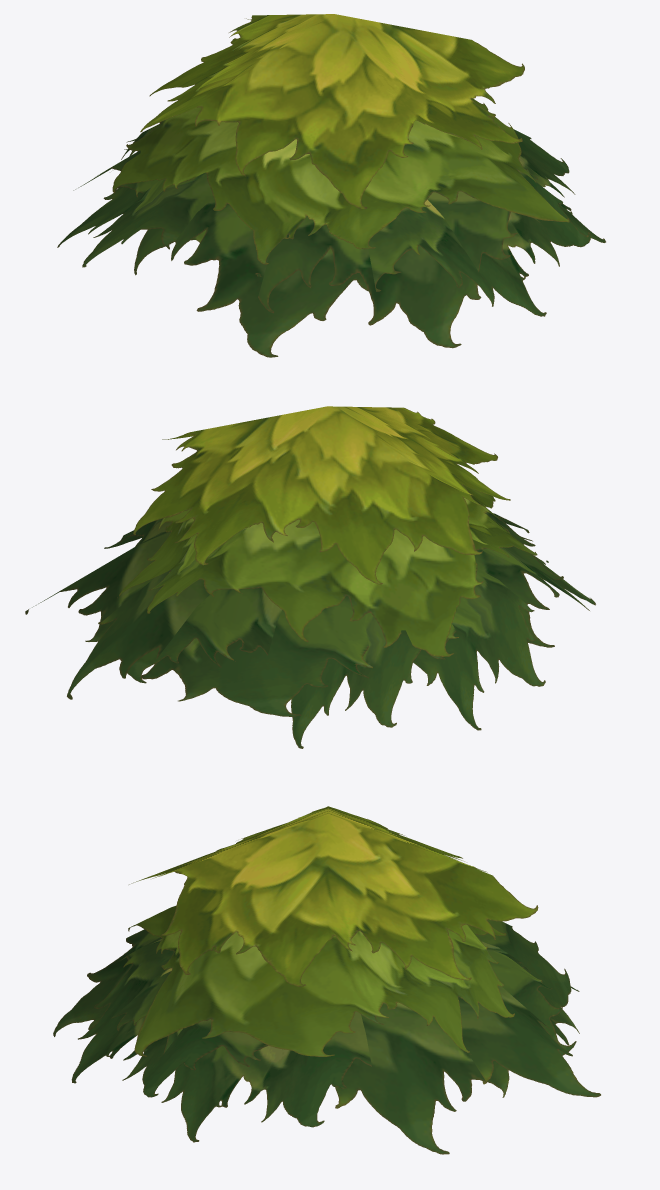
The model's file is sm_flower_05.FBX.
3 views of the same model, one above another, from view 1: azimuth 30°, elevation 25°; view 2: azimuth 150°, elevation 25°; view 3: azimuth 270°, elevation 25° (orthographic).
Parts seen in each view (by area): view 1: sm_flower_05; view 2: sm_flower_05; view 3: sm_flower_05.
Boxes of the visible parts, x1,y1,x2,y2 form: sm_flower_05: (57,14,605,357); sm_flower_05: (25,406,595,748); sm_flower_05: (53,806,600,1154).
Bounding box in the file's own units: 140 × 139 × 55.6.
